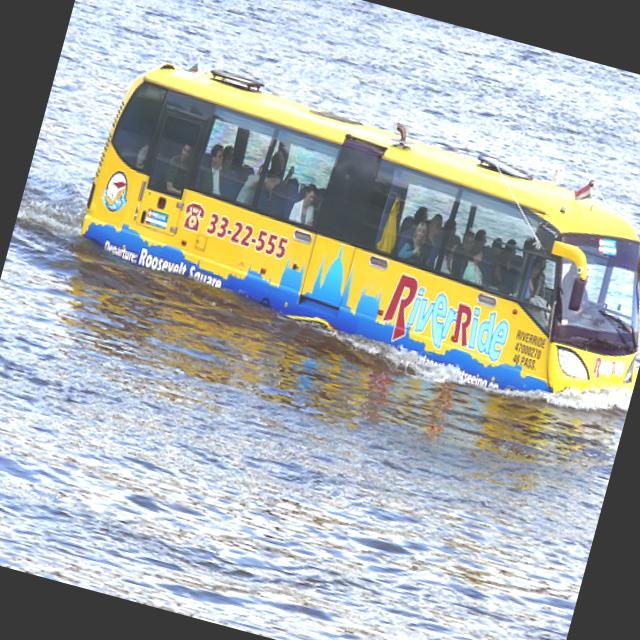Vehicle: (68, 46, 640, 420)
